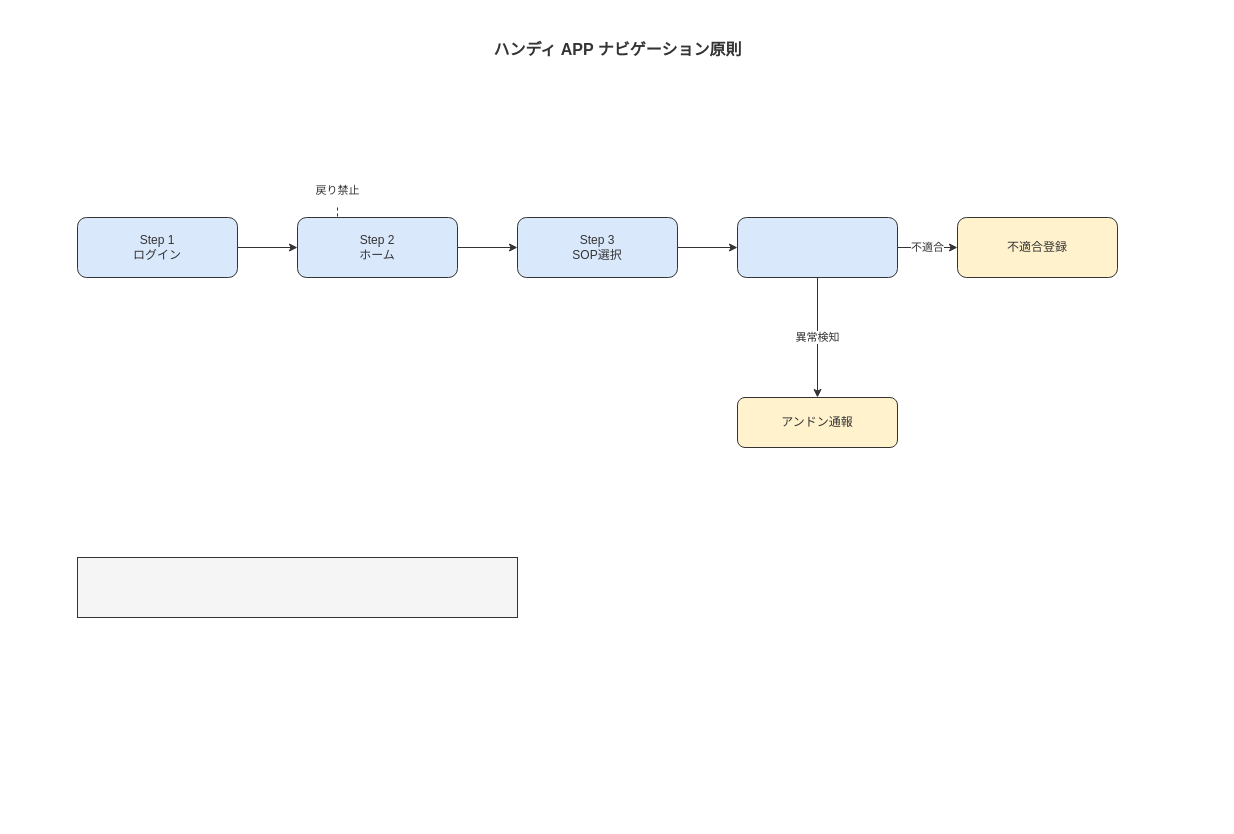
The diagram is 1234 pixels wide and 834 high, and some of its shapes have lost their labels. The shapes that lost their labels are listed below. From the top down, each one's box as (x1, y1, x2, y2) in pixels, then its label:
(736, 216, 898, 278): Step 4 Step実行
(76, 556, 518, 618): 原則: 直線的ウィザード進行（後退なし） 側枝: 異常・不適合のみ離脱を許可
